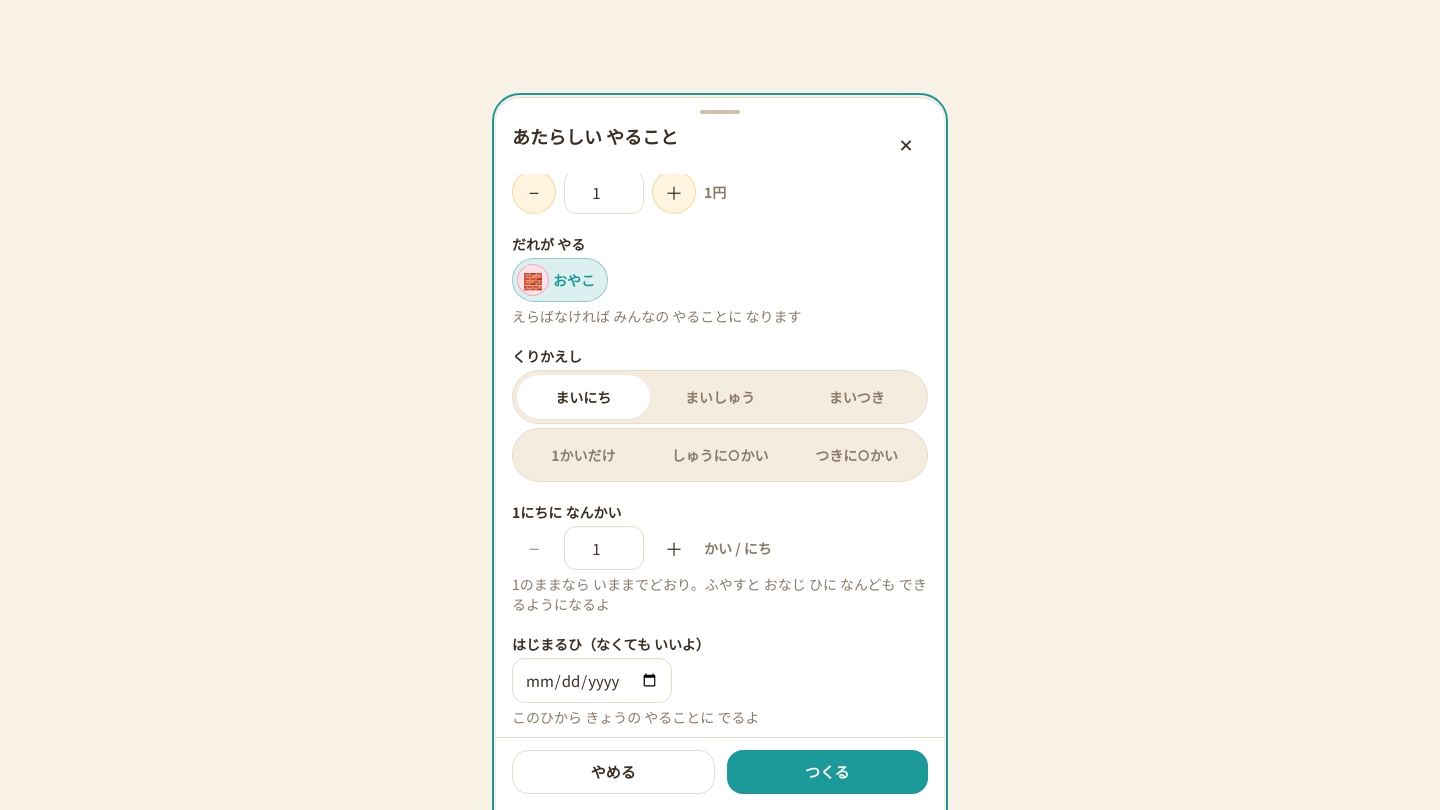
Scenario: TaskEditor deadline field › shows once '1かいだけ' is picked
The width and height of the screenshot is (1440, 810).
(page scrolled)
What coordinates should you click on to do the following:
click the radio button labelled "1かいだけ"
I would click on:
 (583, 455)
Its box is [551, 445, 616, 465].
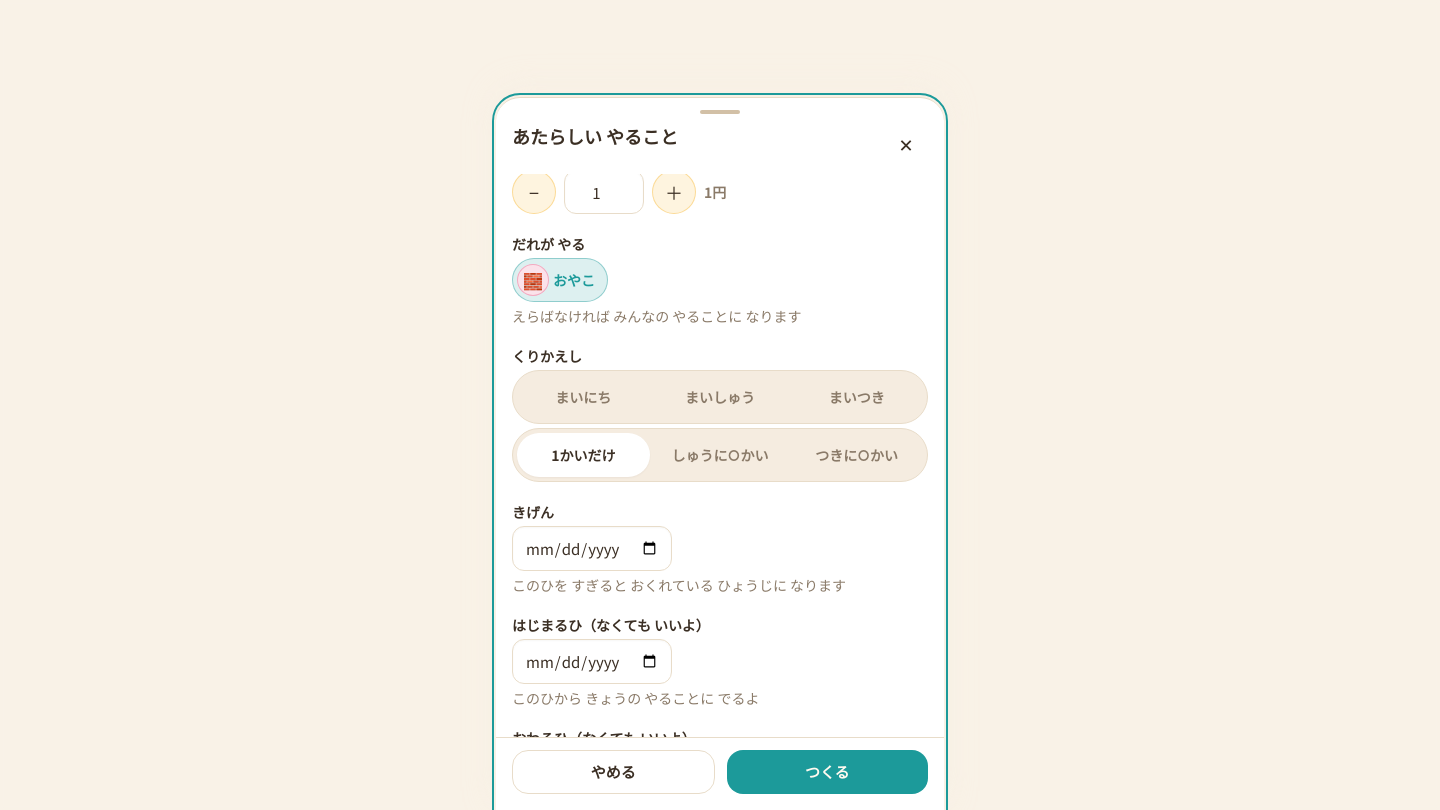
Check: the date field labelled "きげん" is shown, box [512, 526, 672, 571]
